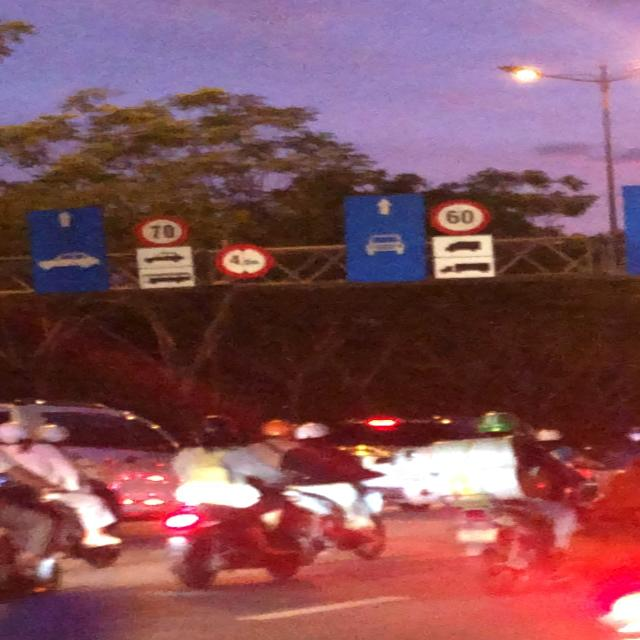Bien bao han che chieu cao: (209, 242, 273, 281)
Bien bao toc do toi da cho phep: (428, 197, 498, 235), (131, 210, 190, 248)
